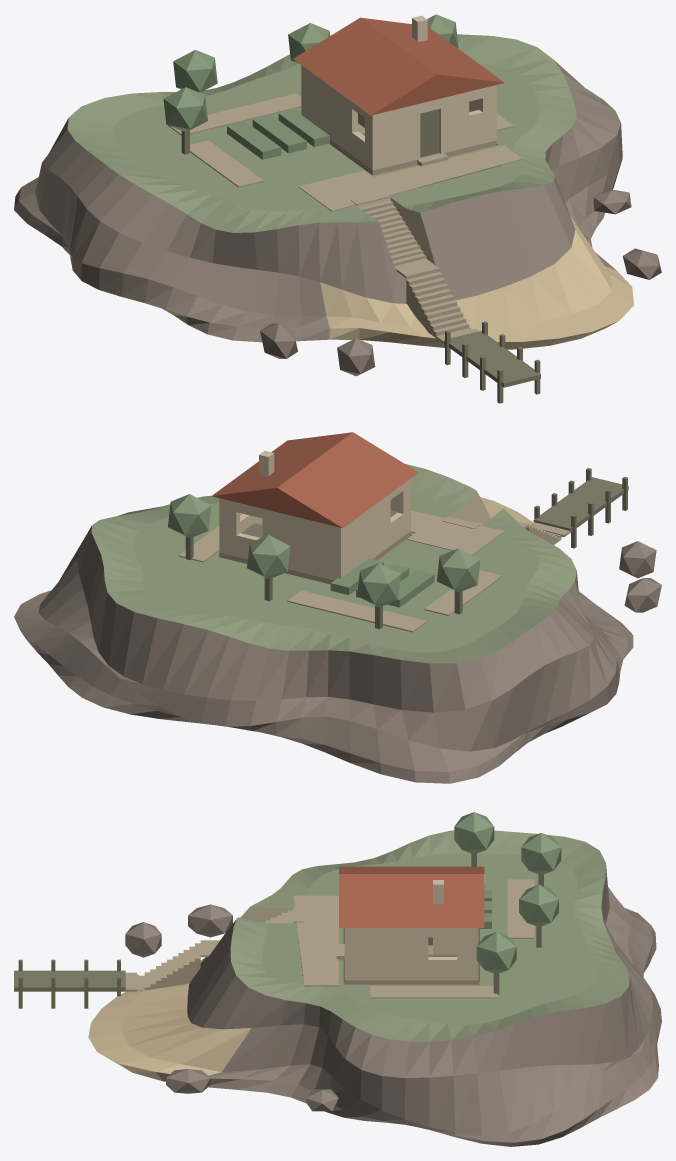
Rendered from island_cottage_blockout_v2.glb.
3 views of the same model, one above another, from view 1: azimuth 30°, elevation 25°; view 2: azimuth 150°, elevation 25°; view 3: azimuth 270°, elevation 25° (orthographic). The views are drawn at different scales.
Visible parts, largest first — view 1: Organic_Coastal_Mass, Pitched_Roof_Blockout, Organic_Coastal_Section, Wall_Front, Courtyard, Wall_Left, Garden, Pier_Deck, Back_Garden_Path, Tree_Crown_Placeholder_0, Tree_Crown_Placeholder_1, Garden_Loop_Path (+8 smaller); view 2: Organic_Coastal_Mass, Pitched_Roof_Blockout, Organic_Coastal_Section, Wall_Back, Wall_Left, Courtyard, Pier_Deck, Back_Garden_Path, Garden, Tree_Crown_Placeholder_0, Tree_Crown_Placeholder_1, Tree_Crown_Placeholder_2 (+6 smaller); view 3: Organic_Coastal_Mass, Pitched_Roof_Blockout, Wall_Right, Organic_Coastal_Section, Courtyard, Pier_Deck, Right_House_Path, Tree_Crown_Placeholder_1, Tree_Crown_Placeholder_0, Tree_Crown_Placeholder_3, Tree_Crown_Placeholder_2, Back_Garden_Path (+6 smaller).
Part boxes in pixels (bbox=[...]): Organic_Coastal_Mass: bbox=[14, 34, 633, 349]; Pitched_Roof_Blockout: bbox=[293, 17, 504, 115]; Organic_Coastal_Section: bbox=[113, 42, 601, 299]; Wall_Front: bbox=[371, 85, 496, 170]; Courtyard: bbox=[298, 145, 522, 211]; Wall_Left: bbox=[301, 65, 378, 170]; Garden: bbox=[227, 109, 329, 159]; Pier_Deck: bbox=[444, 330, 540, 387]; Back_Garden_Path: bbox=[168, 93, 301, 135]; Tree_Crown_Placeholder_0: bbox=[163, 87, 207, 131]; Tree_Crown_Placeholder_1: bbox=[173, 50, 217, 92]; Garden_Loop_Path: bbox=[190, 140, 263, 187]; Organic_Coastal_Mass: bbox=[14, 464, 633, 783]; Pitched_Roof_Blockout: bbox=[211, 432, 418, 528]; Organic_Coastal_Section: bbox=[93, 497, 539, 652]; Wall_Back: bbox=[219, 498, 344, 580]; Wall_Left: bbox=[334, 480, 410, 578]; Courtyard: bbox=[407, 511, 504, 555]; Pier_Deck: bbox=[533, 477, 628, 532]; Back_Garden_Path: bbox=[287, 590, 426, 632]; Garden: bbox=[330, 558, 434, 607]; Tree_Crown_Placeholder_0: bbox=[437, 548, 480, 591]; Tree_Crown_Placeholder_1: bbox=[357, 563, 400, 606]; Tree_Crown_Placeholder_2: bbox=[247, 535, 290, 578]; Organic_Coastal_Mass: bbox=[88, 830, 661, 1146]; Pitched_Roof_Blockout: bbox=[339, 866, 484, 927]; Wall_Right: bbox=[344, 928, 478, 980]; Organic_Coastal_Section: bbox=[240, 853, 597, 1088]; Courtyard: bbox=[293, 895, 338, 986]; Pier_Deck: bbox=[14, 970, 125, 991]; Right_House_Path: bbox=[370, 986, 497, 998]; Tree_Crown_Placeholder_1: bbox=[521, 833, 561, 874]; Tree_Crown_Placeholder_0: bbox=[454, 812, 494, 853]; Tree_Crown_Placeholder_3: bbox=[476, 932, 516, 973]; Tree_Crown_Placeholder_2: bbox=[519, 885, 558, 926]; Back_Garden_Path: bbox=[507, 879, 534, 938].
Size of what is drawn, in the model's own units: 26.78 by 8.76 by 29.
